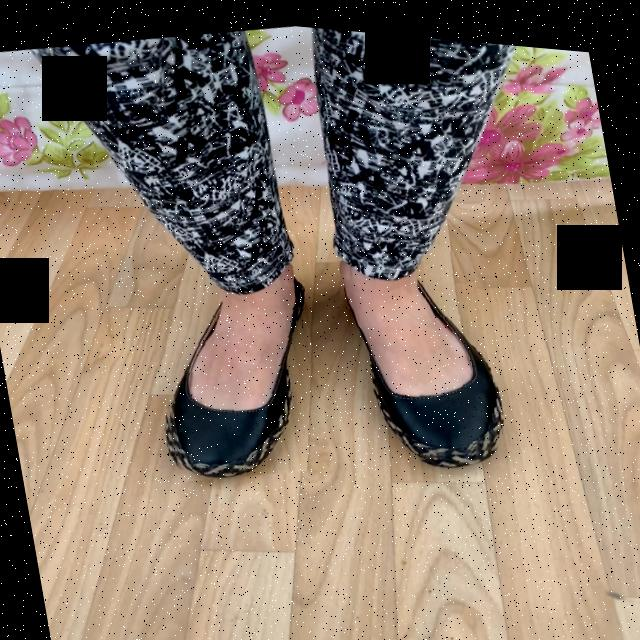shoe: (340, 254, 497, 448), (170, 263, 304, 475)
